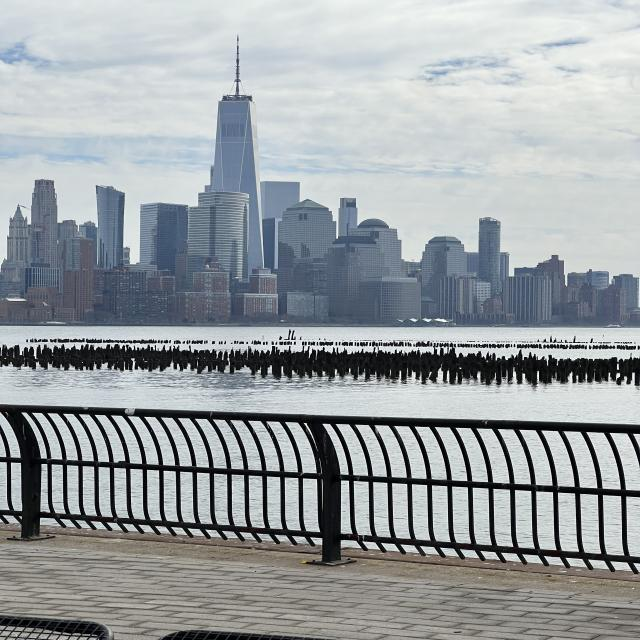WTC: (212, 36, 258, 194)
